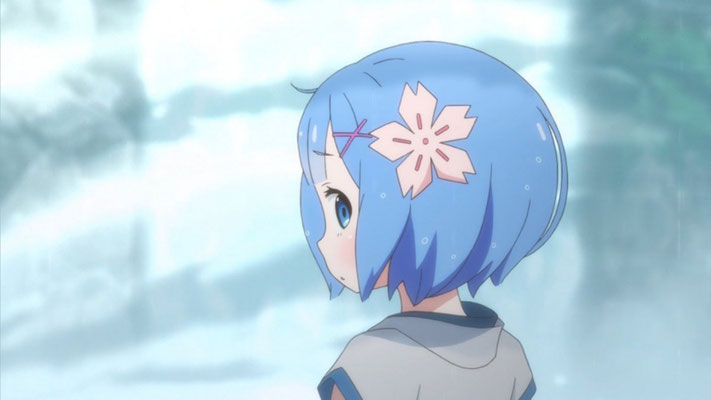rem: (290, 39, 568, 400)
